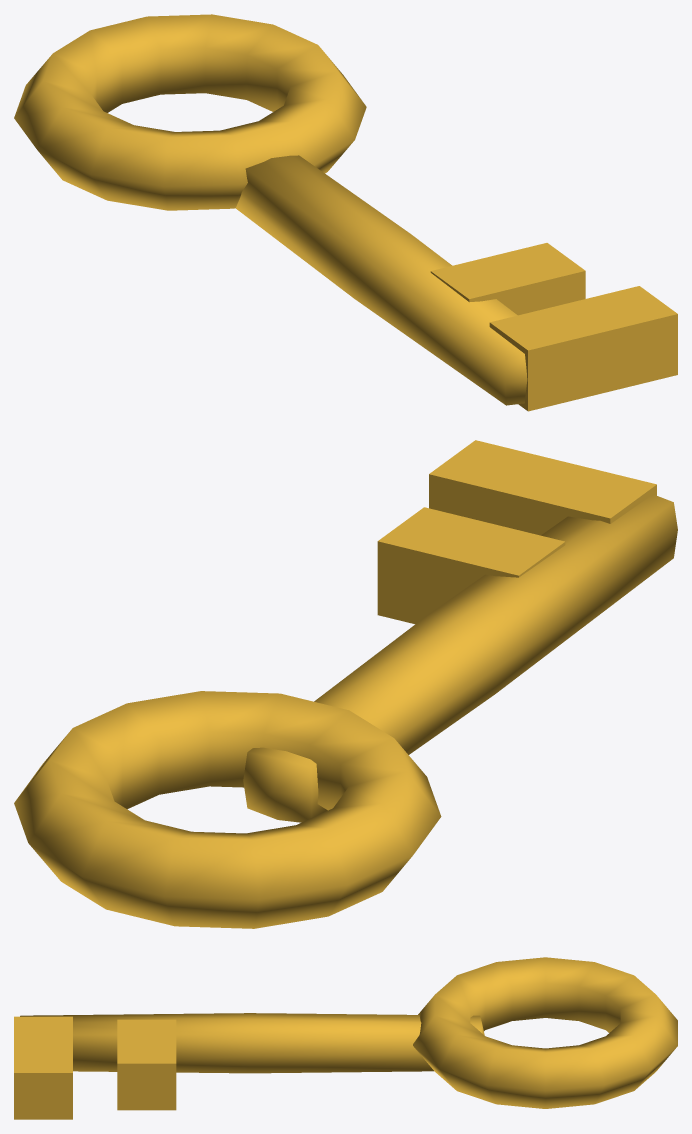
Rendered from key.glb.
3 renders of one model, top to bottom at view 1: azimuth 30°, elevation 25°; view 2: azimuth 150°, elevation 25°; view 3: azimuth 270°, elevation 25°, orthographic. The views are drawn at different scales.
Visible parts, largest first — view 1: root; view 2: root; view 3: root.
Part boxes in pixels (bbox=[...]): root: bbox=[14, 14, 677, 411]; root: bbox=[14, 440, 677, 928]; root: bbox=[14, 957, 677, 1119].
Size of the model in its own units: 0.184 by 0.0459 by 0.4497.
